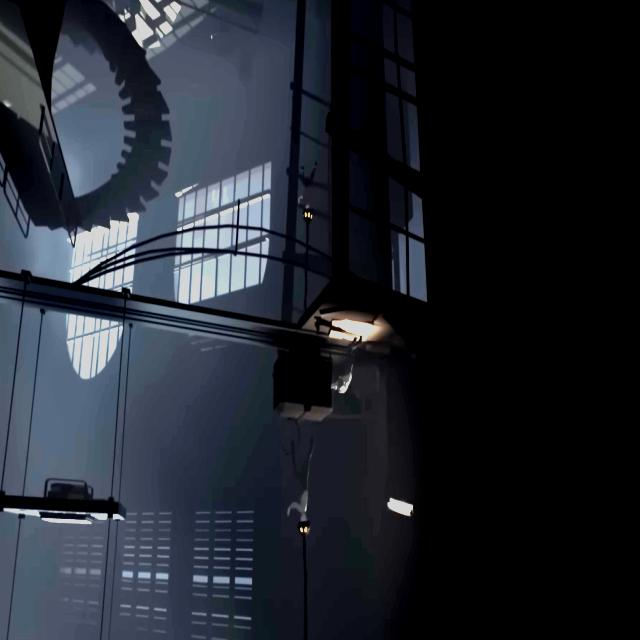boy: (298, 160, 318, 209)
